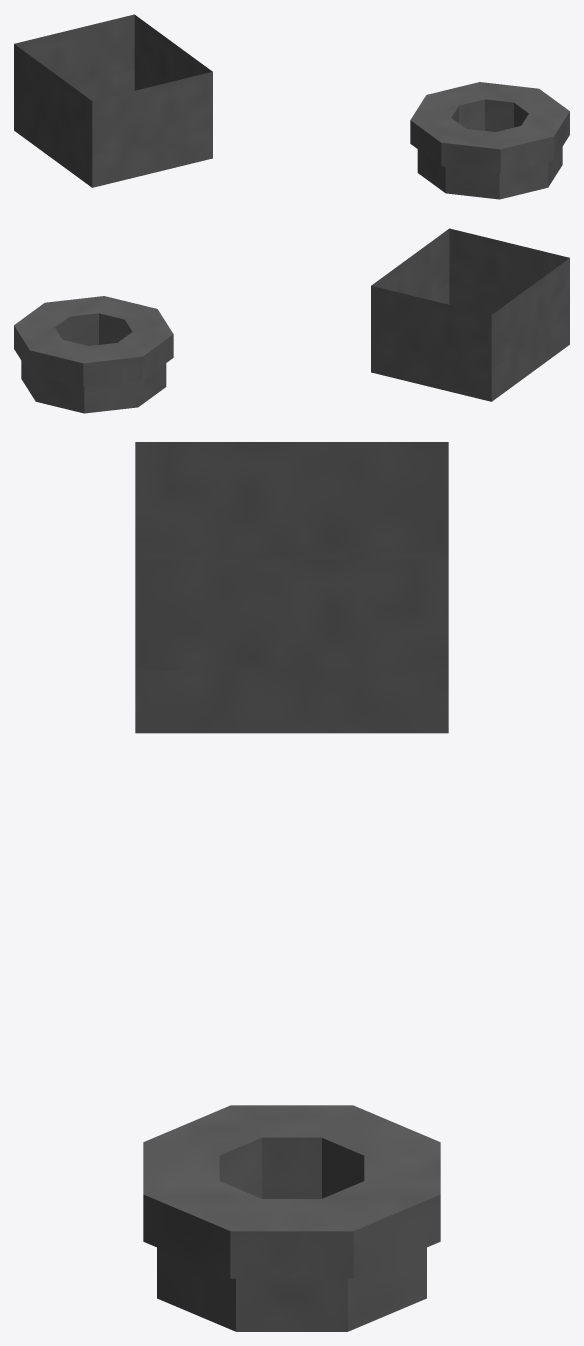
Rendered from ammo_assembler_blocks.obj.
3 renders of one model, top to bottom at view 1: azimuth 30°, elevation 25°; view 2: azimuth 150°, elevation 25°; view 3: azimuth 270°, elevation 25°, orthographic. The views are drawn at different scales.
Visible parts, largest first — view 1: metering_valve, escapement, escapement.001; view 2: metering_valve, escapement, escapement.001; view 3: metering_valve, escapement, escapement.001.
Boxes of the visible parts, x1,y1,x2,y2 form: metering_valve: [14, 14, 212, 187]; escapement: [410, 82, 569, 172]; escapement.001: [417, 123, 562, 199]; metering_valve: [371, 228, 569, 401]; escapement: [14, 296, 173, 386]; escapement.001: [21, 337, 166, 413]; metering_valve: [135, 442, 448, 733]; escapement: [143, 1105, 440, 1278]; escapement.001: [157, 1185, 426, 1331].
Bounding box in the file's own units: 1.33 × 0.515 × 0.36.
